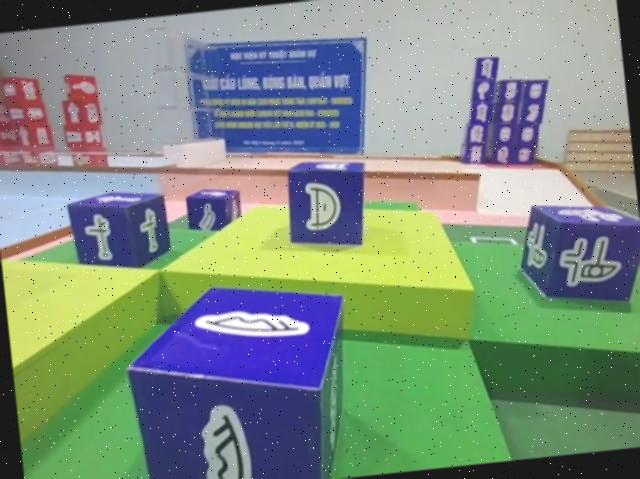R2 Real Blue: (115, 269, 361, 479), (513, 195, 640, 313), (66, 187, 175, 277), (284, 157, 377, 256), (184, 187, 244, 237)
